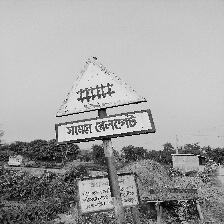Rail-crossing: (54, 57, 154, 144)
